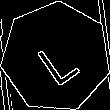L_NW: (29, 27, 83, 87)
